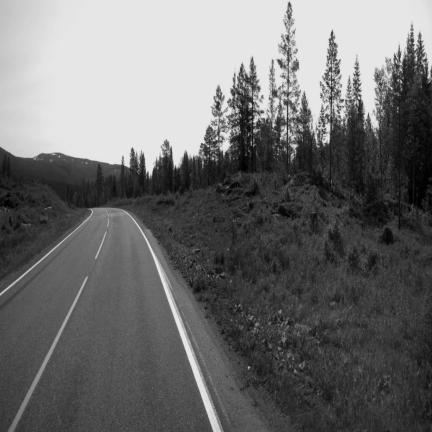Road: (0, 209, 237, 430)
